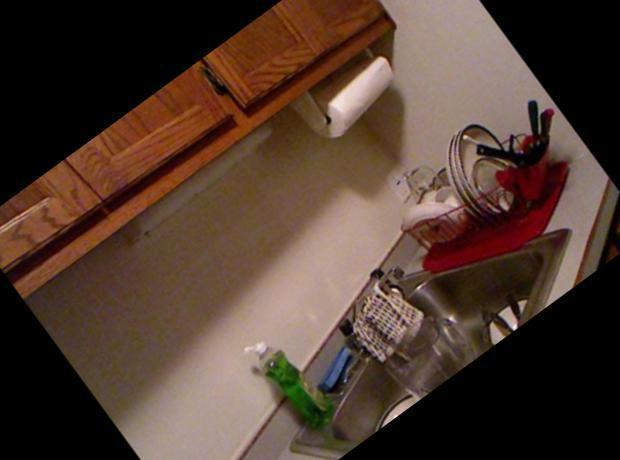Electrodomestico: (240, 169, 598, 460)
